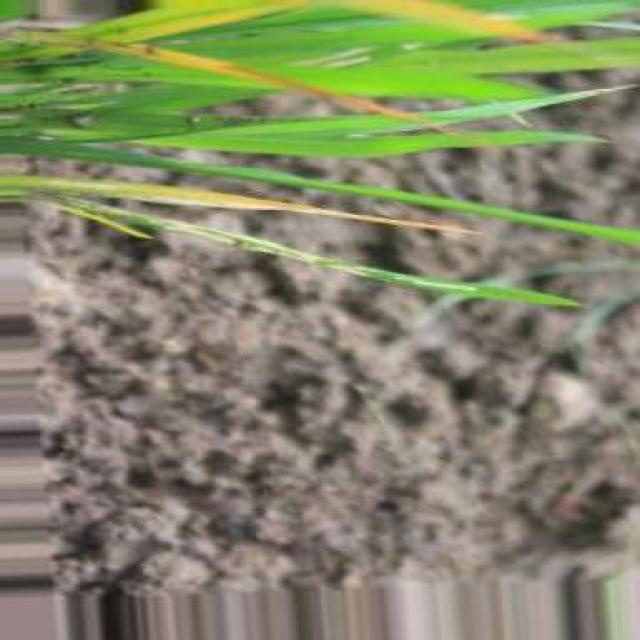Rice Tungro: (101, 44, 448, 133), (73, 0, 308, 43), (331, 0, 549, 42)
